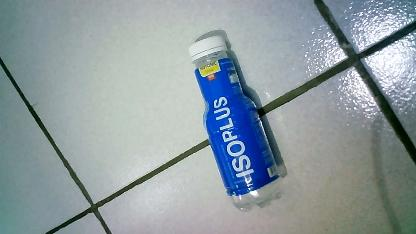Plastic Bottle: (178, 34, 292, 216)
